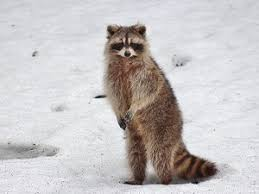raccoon: (103, 21, 182, 184)
